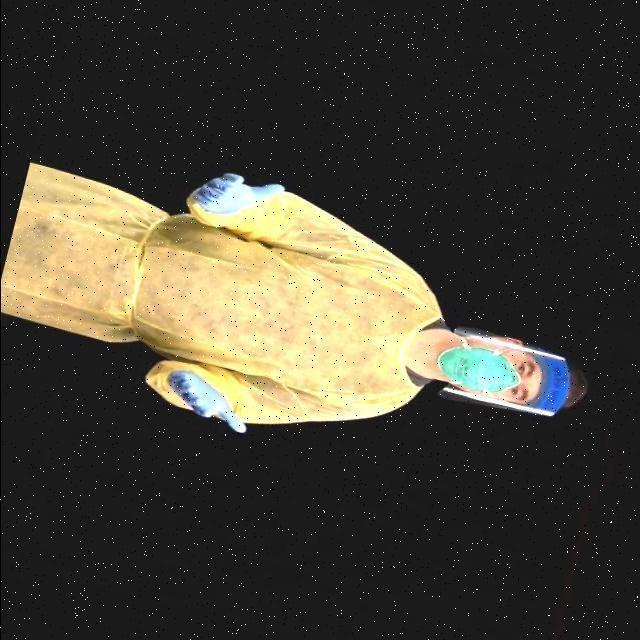apron: (167, 364, 251, 440), (193, 162, 282, 224), (321, 412, 322, 440)
mask: (442, 338, 523, 404)
